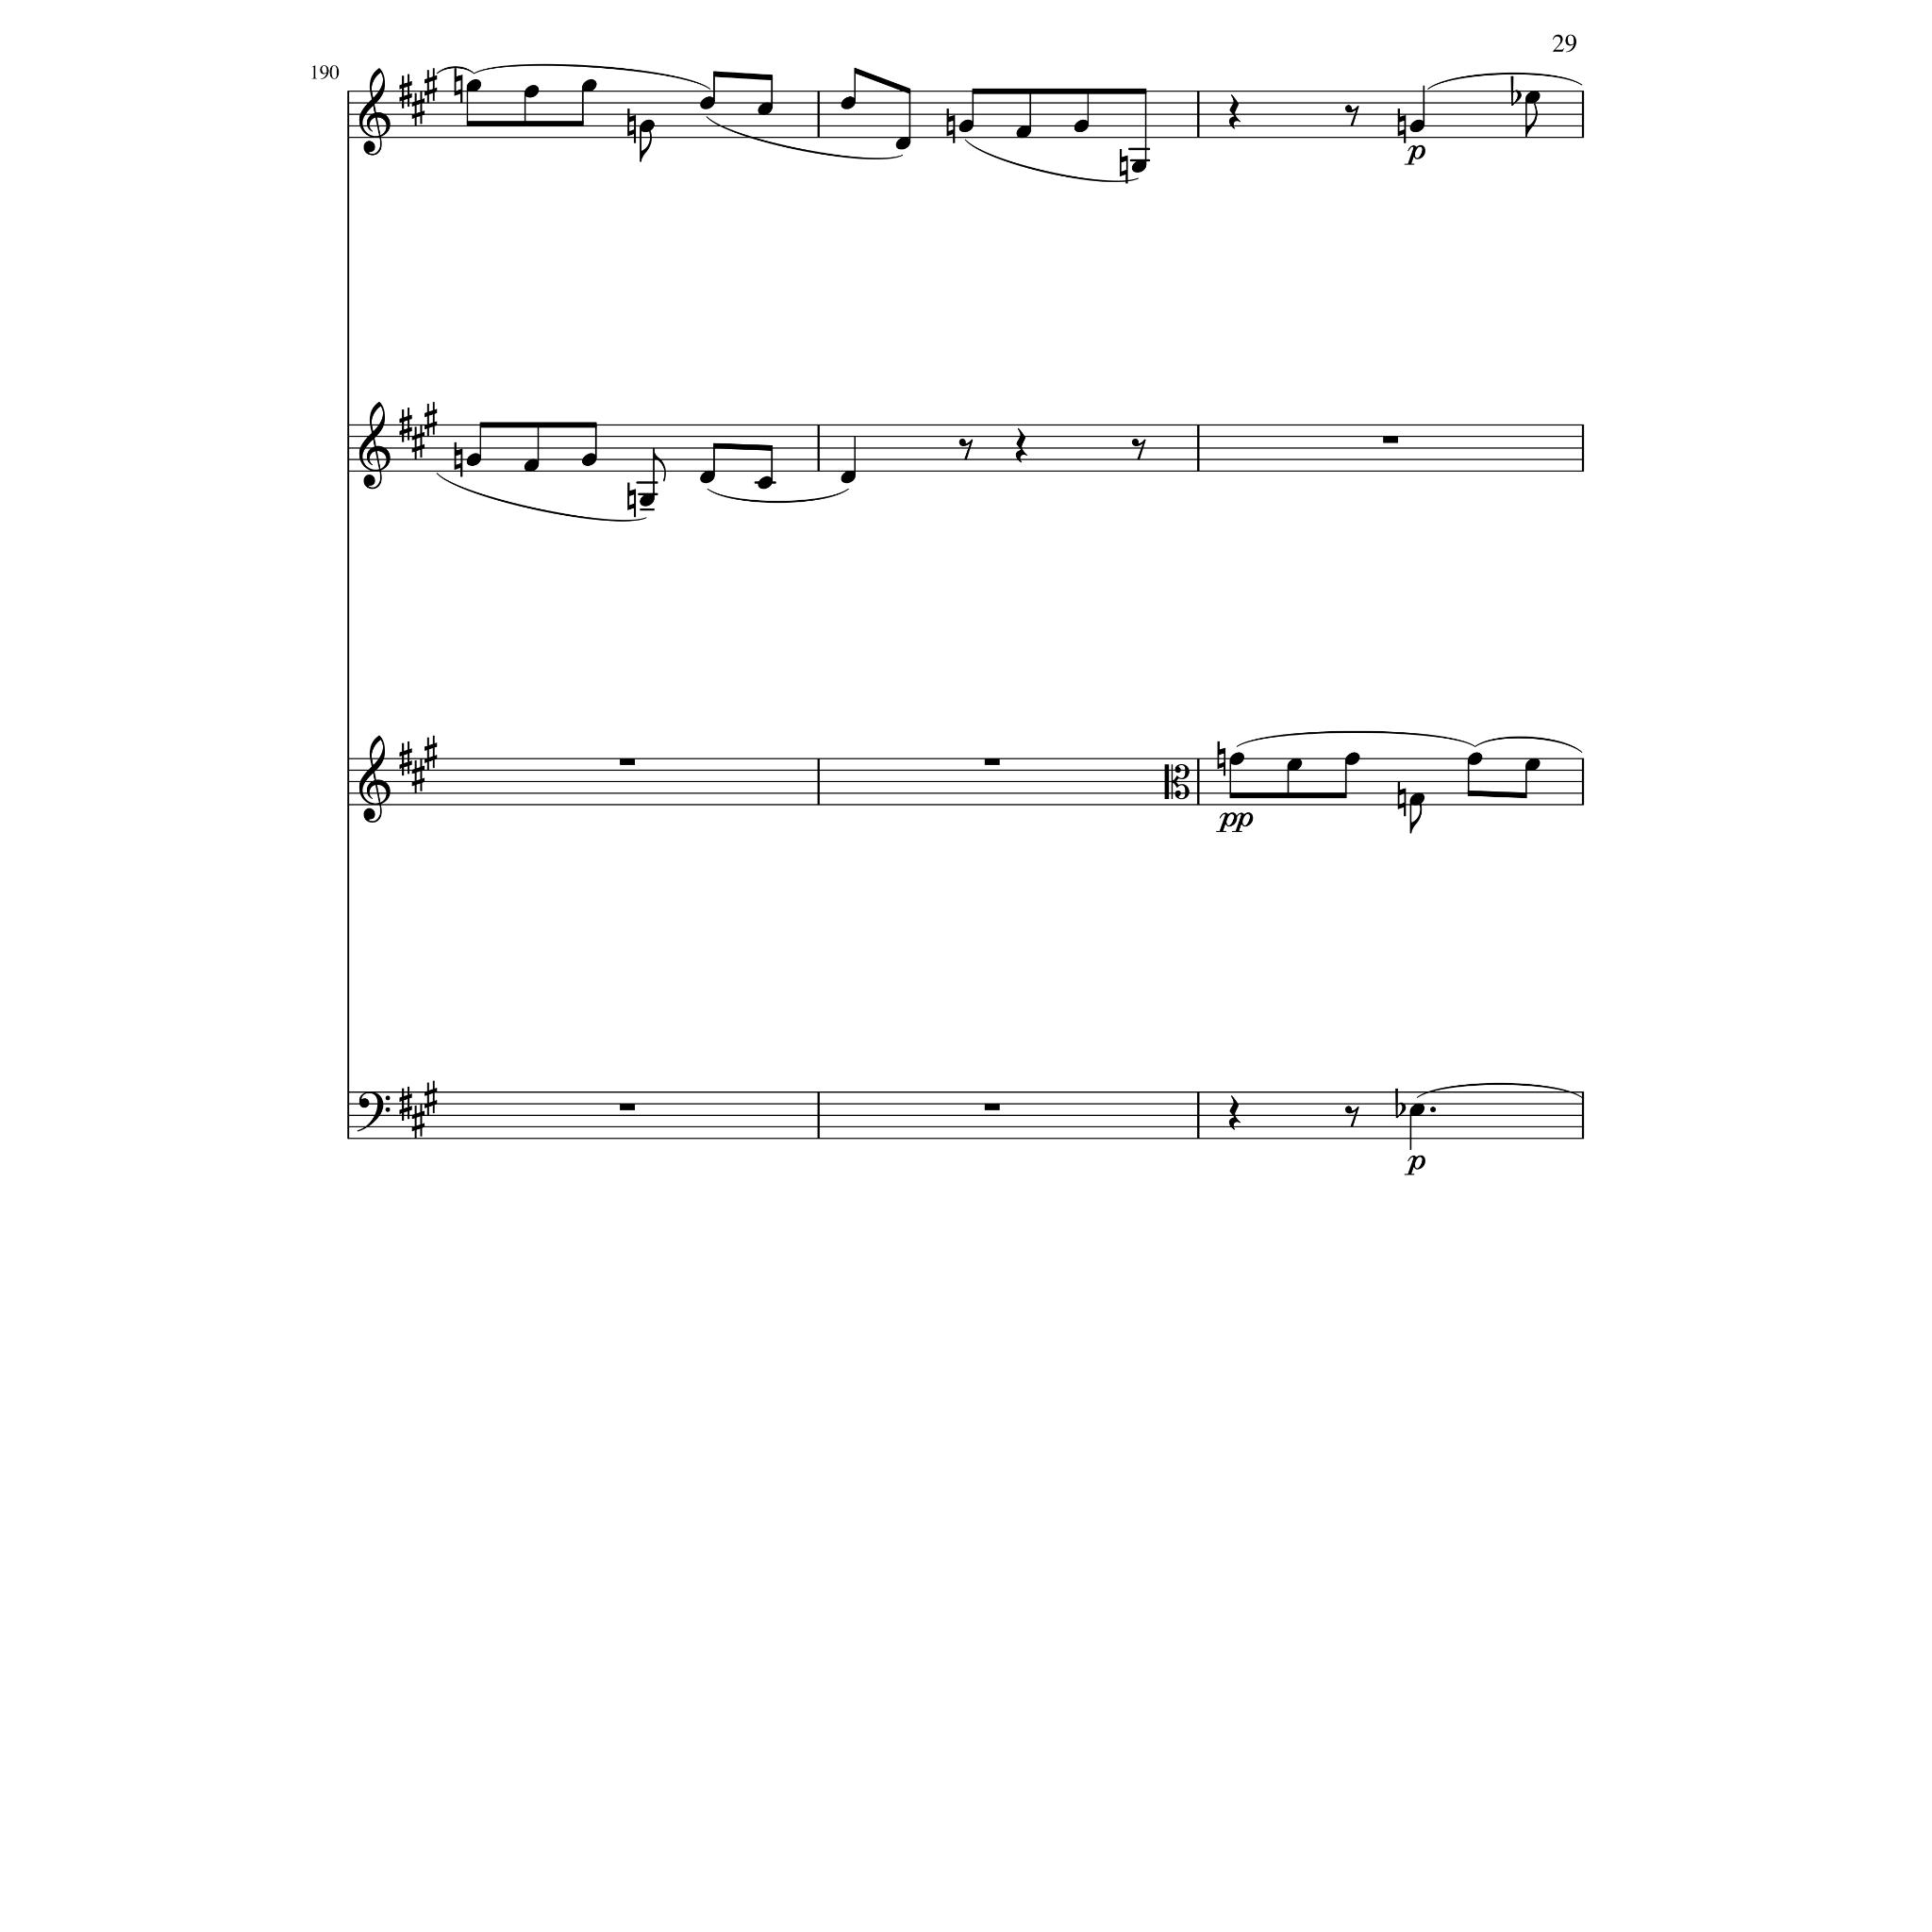fClef: (357, 1092, 391, 1132)
flag8thDown: (1409, 800, 1423, 834), (1524, 104, 1538, 138), (640, 128, 653, 162)
flag8thUp: (653, 448, 666, 482)
gClef: (358, 68, 391, 157), (358, 735, 391, 824), (358, 401, 391, 490)
noteheadBlack: (894, 136, 911, 151), (840, 470, 857, 485), (700, 470, 715, 485), (1015, 125, 1032, 139), (1343, 753, 1360, 766), (1130, 160, 1147, 174), (1228, 753, 1245, 766), (1524, 758, 1541, 772), (1524, 91, 1541, 104), (1466, 753, 1483, 766), (523, 459, 540, 473), (523, 85, 540, 98), (757, 476, 774, 490), (757, 103, 774, 116), (840, 97, 857, 110), (1287, 758, 1302, 772), (1074, 120, 1089, 133), (1409, 1104, 1424, 1117), (1409, 792, 1424, 806), (1409, 120, 1424, 133), (640, 493, 655, 507), (640, 120, 655, 133), (581, 453, 596, 466), (581, 79, 596, 92), (466, 453, 481, 466), (466, 79, 481, 92), (958, 120, 974, 133), (700, 97, 715, 110)
rest8th: (1344, 1106, 1359, 1128), (1344, 105, 1359, 127), (1131, 439, 1146, 461), (958, 439, 974, 461)
restQuarter: (1015, 427, 1028, 463), (1228, 1095, 1241, 1131), (1228, 94, 1241, 130)
restWhole: (619, 1104, 636, 1111), (619, 758, 636, 766), (985, 758, 1000, 766), (985, 1104, 1000, 1111), (1383, 437, 1398, 444)
